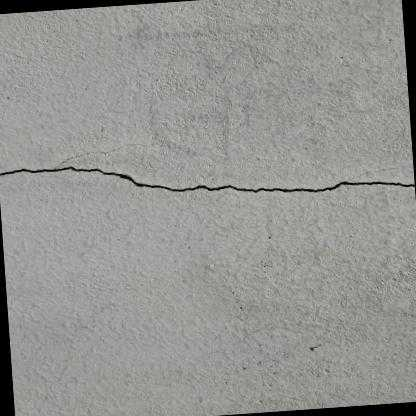crack: (0, 167, 415, 194)
